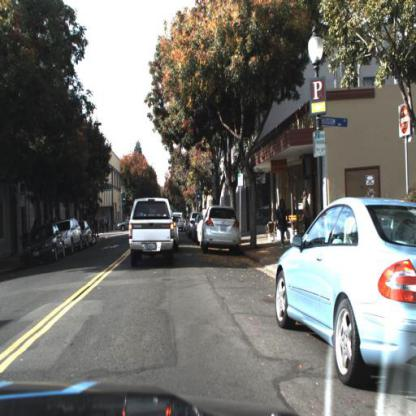car: (274, 195, 416, 389), (275, 197, 415, 389), (130, 194, 174, 262), (24, 219, 65, 266), (202, 209, 240, 254), (60, 219, 83, 254), (82, 217, 93, 248), (175, 212, 187, 233), (117, 219, 130, 235)
pedestrian: (277, 195, 291, 249), (277, 198, 289, 247), (301, 188, 314, 233), (303, 190, 312, 232)
